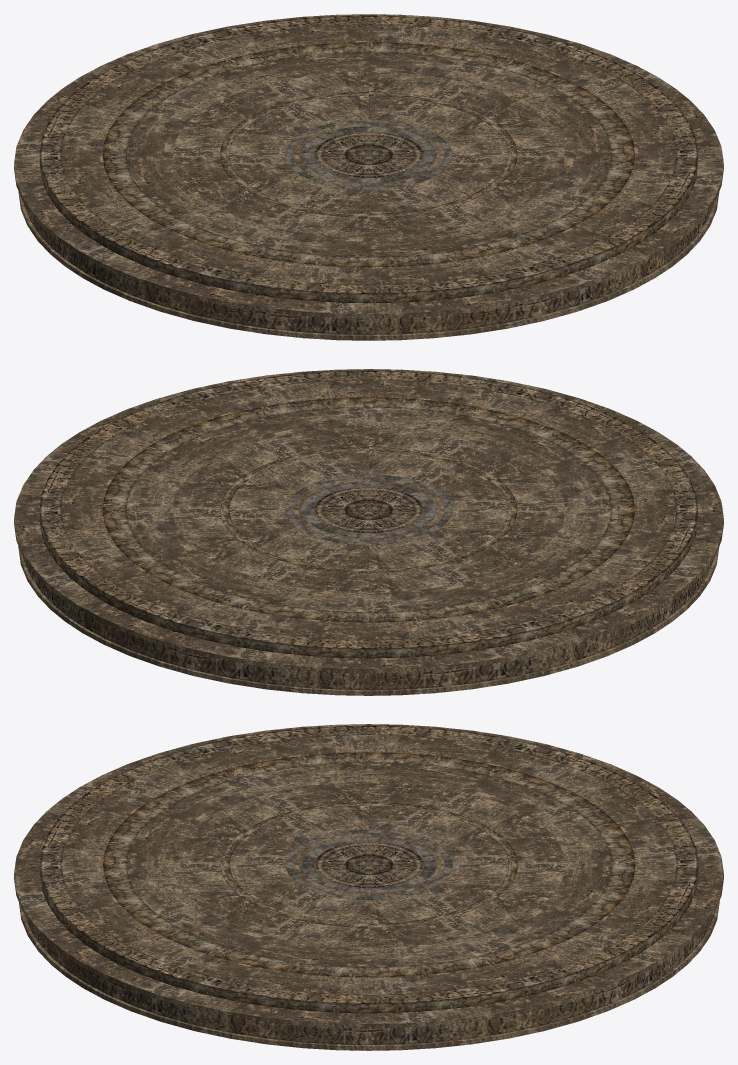
Rendered from materials_5_floor_round_6.fbx.
3 renders of one model, top to bottom at view 1: azimuth 30°, elevation 25°; view 2: azimuth 150°, elevation 25°; view 3: azimuth 270°, elevation 25°, orthographic.
Visible parts, largest first — view 1: materials_5_floor_round_6; view 2: materials_5_floor_round_6; view 3: materials_5_floor_round_6.
Part boxes in pixels (x1=…): materials_5_floor_round_6: x1=14, y1=14, x2=723, y2=340; materials_5_floor_round_6: x1=14, y1=369, x2=723, y2=695; materials_5_floor_round_6: x1=14, y1=724, x2=723, y2=1050.
Bounding box in the file's own units: 1082 × 63.81 × 1082.
